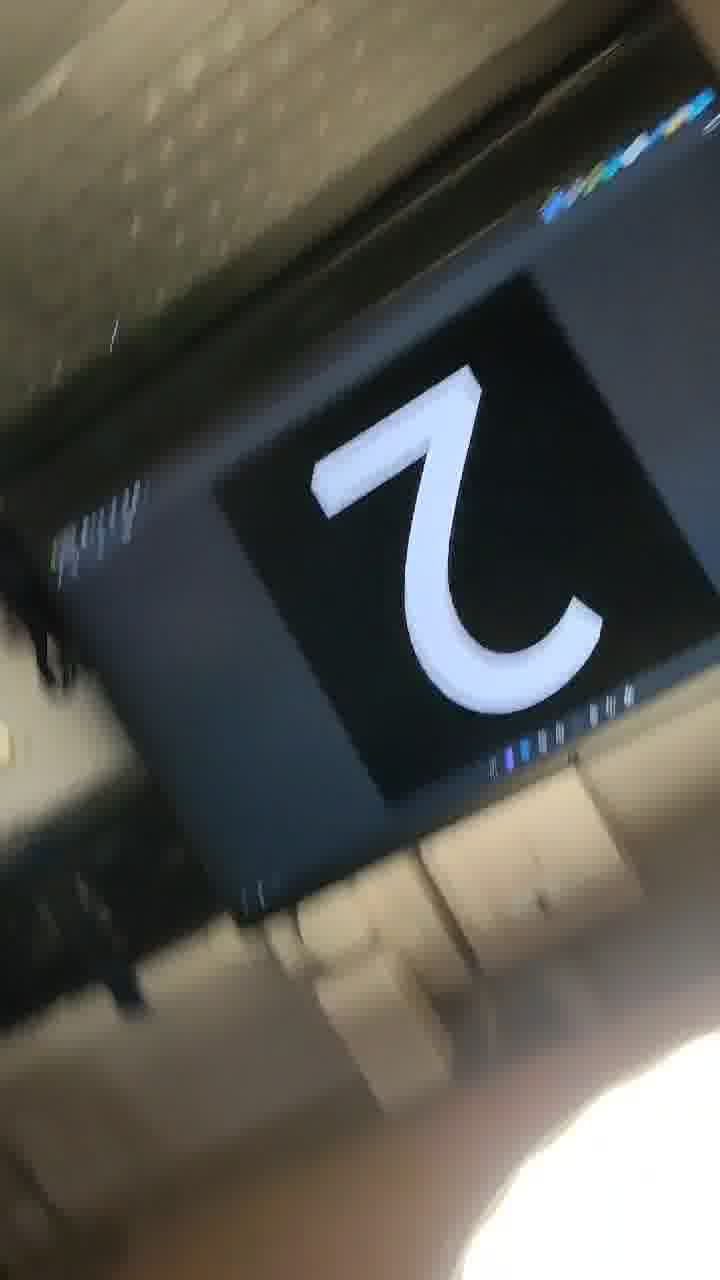two: (291, 346, 599, 742)
